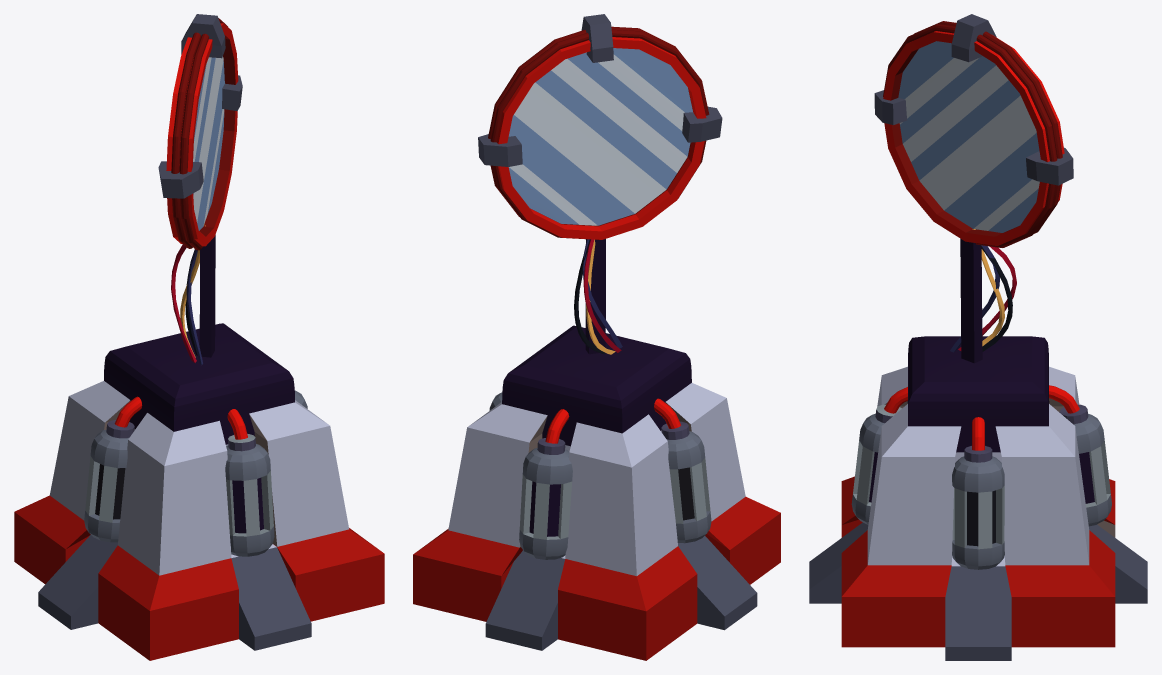
The model's file is mirror (1).fbx.
The picture shows the model from 3 angles, left to right: view 1: azimuth 30°, elevation 25°; view 2: azimuth 150°, elevation 25°; view 3: azimuth 270°, elevation 25°; orthographic projection.
Parts seen in each view (by area): view 1: mirror; view 2: mirror; view 3: mirror.
Boxes of the visible parts, x1,y1,x2,y2 form: mirror: [14, 14, 384, 660]; mirror: [413, 14, 780, 660]; mirror: [809, 14, 1147, 660].
Bounding box in the file's own units: 485 × 903 × 485.
